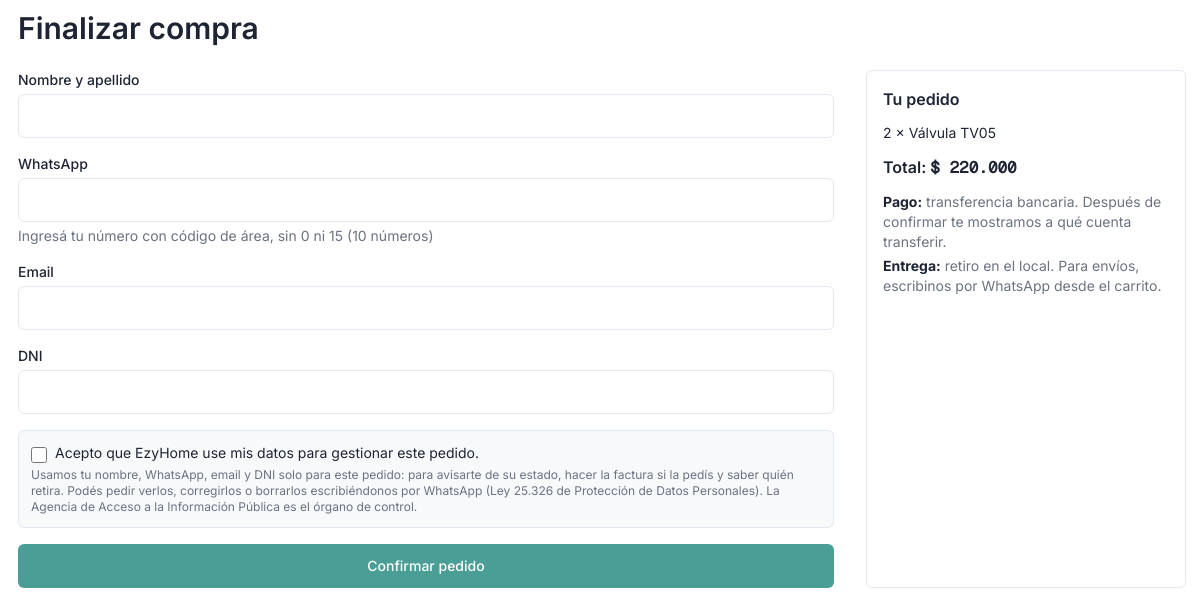
Scenario: CheckoutPage › should ask for the WhatsApp as 10 numbers and drop spaces and dashes as they type
This screenshot has width=1203, height=605.
In the field labelled "WhatsApp": (426, 200) [18, 178, 834, 222], type "11 5555-4444"
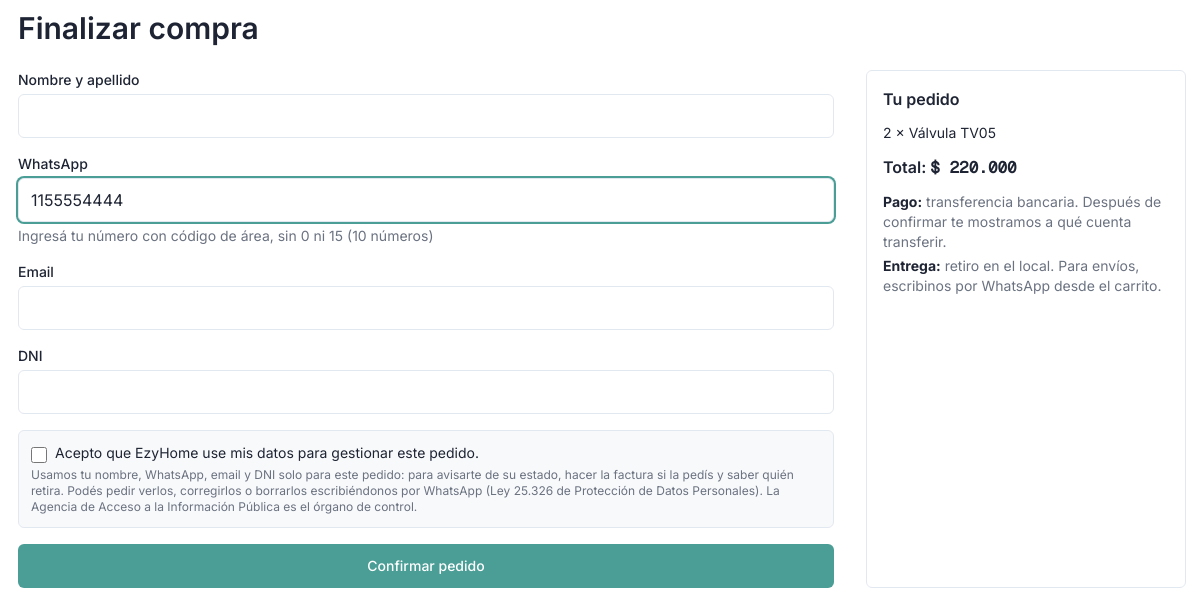
expect the field labelled "WhatsApp" holds "1155554444": met, box [18, 178, 834, 222]
